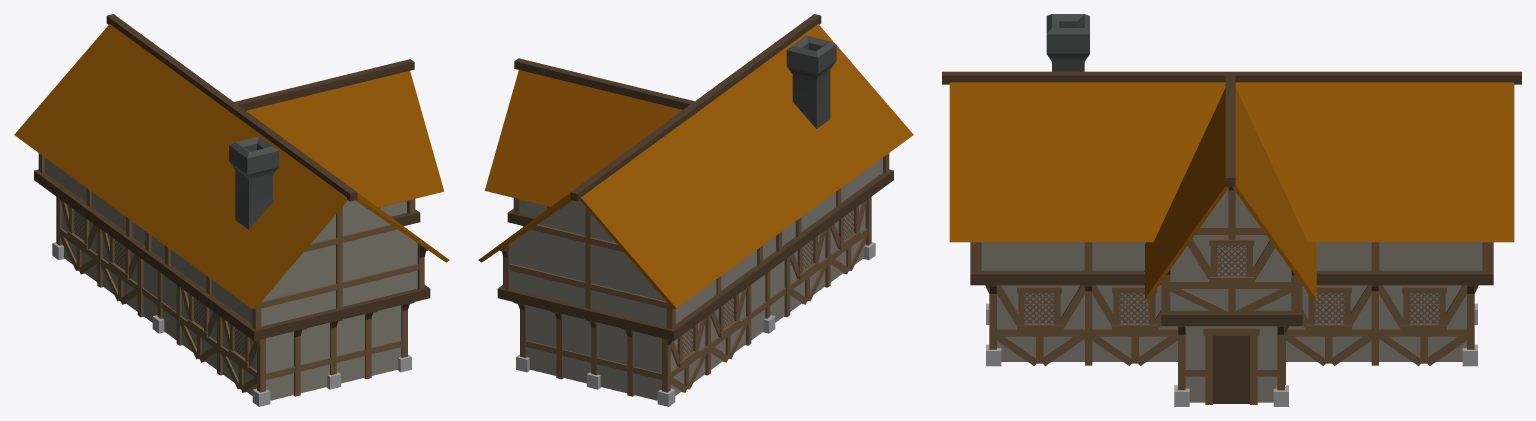
Rendered from M_Tavern.fbx.
3 renders of one model, left to right at view 1: azimuth 30°, elevation 25°; view 2: azimuth 150°, elevation 25°; view 3: azimuth 270°, elevation 25°, orthographic. The views are drawn at different scales.
Visible parts, largest first — view 1: Toit_1, pCube182, Toit_2, pPlane9, pCube184, pCube180, Poutre_toit, pCube192, pPlane6, Poutre_toit_1, pCube87, pCube191 (+2 smaller); view 2: Toit_1, pCube182, Toit_2, pPlane9, pCube184, pCube180, pCube192, Poutre_toit, pPlane6, Poutre_toit_1, pCube87, pCube191 (+2 smaller); view 3: Toit_1, pCube180, Toit_2, pCube184, Poutre_toit, pCube5, pPlane10, pPlane3, polySurface1, pCube187, pCube189, Door_low (+9 smaller).
Part boxes in pixels (<box>): Toit_1: <box>14,24,449,309</box>; pCube182: <box>52,197,330,406</box>; Toit_2: <box>246,71,444,207</box>; pPlane9: <box>261,200,417,326</box>; pCube184: <box>34,169,430,340</box>; pCube180: <box>330,305,411,383</box>; Poutre_toit: <box>106,14,357,201</box>; pCube192: <box>229,136,278,229</box>; pPlane6: <box>44,157,252,323</box>; Poutre_toit_1: <box>234,59,414,110</box>; pCube87: <box>261,263,418,308</box>; pCube191: <box>73,209,245,357</box>; Toit_1: <box>478,24,913,309</box>; pCube182: <box>597,197,875,406</box>; Toit_2: <box>485,70,682,206</box>; pPlane9: <box>510,200,666,326</box>; pCube184: <box>497,169,893,340</box>; pCube180: <box>516,305,601,389</box>; pCube192: <box>786,35,836,128</box>; Poutre_toit: <box>570,14,821,201</box>; pPlane6: <box>675,158,882,323</box>; Poutre_toit_1: <box>514,58,694,109</box>; pCube87: <box>509,263,666,308</box>; pCube191: <box>682,209,854,357</box>; Toit_1: <box>949,82,1514,242</box>; pCube180: <box>986,285,1477,384</box>; Toit_2: <box>1145,87,1316,300</box>; pCube184: <box>970,242,1493,326</box>; Poutre_toit: <box>942,71,1521,84</box>; pCube5: <box>1170,189,1291,310</box>; pPlane10: <box>1315,242,1482,270</box>; pPlane3: <box>981,242,1145,270</box>; polySurface1: <box>1185,326,1277,402</box>; pCube187: <box>1170,238,1291,311</box>; pCube189: <box>1024,293,1439,323</box>; Door_low: <box>1213,335,1249,403</box>.
Bounding box in the file's own units: 10.02 × 7.95 × 15.15.
